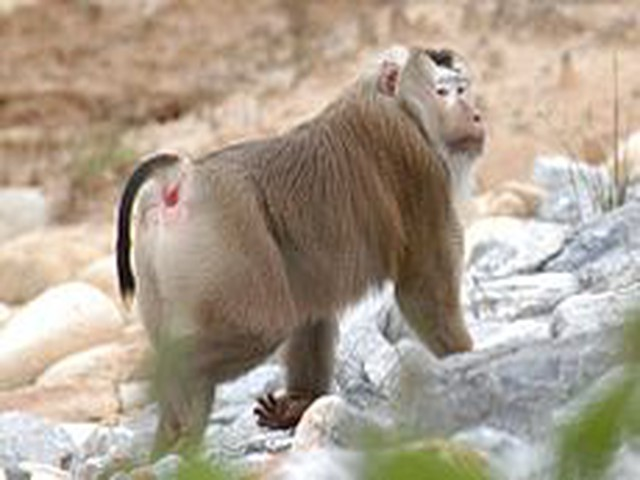Monkey: (99, 40, 496, 444)
